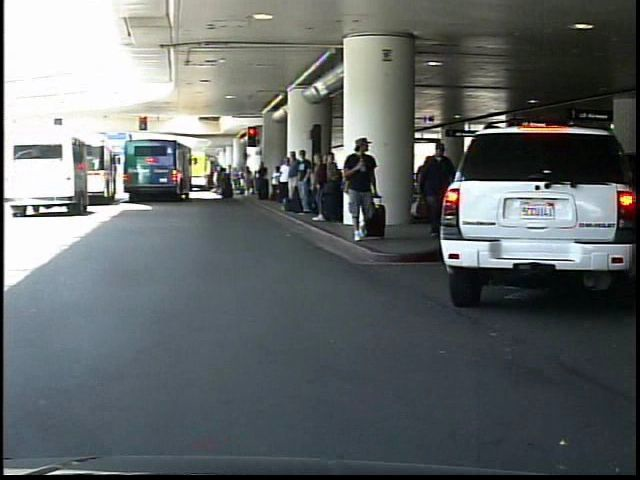person: (412, 134, 456, 245), (345, 134, 386, 244)
